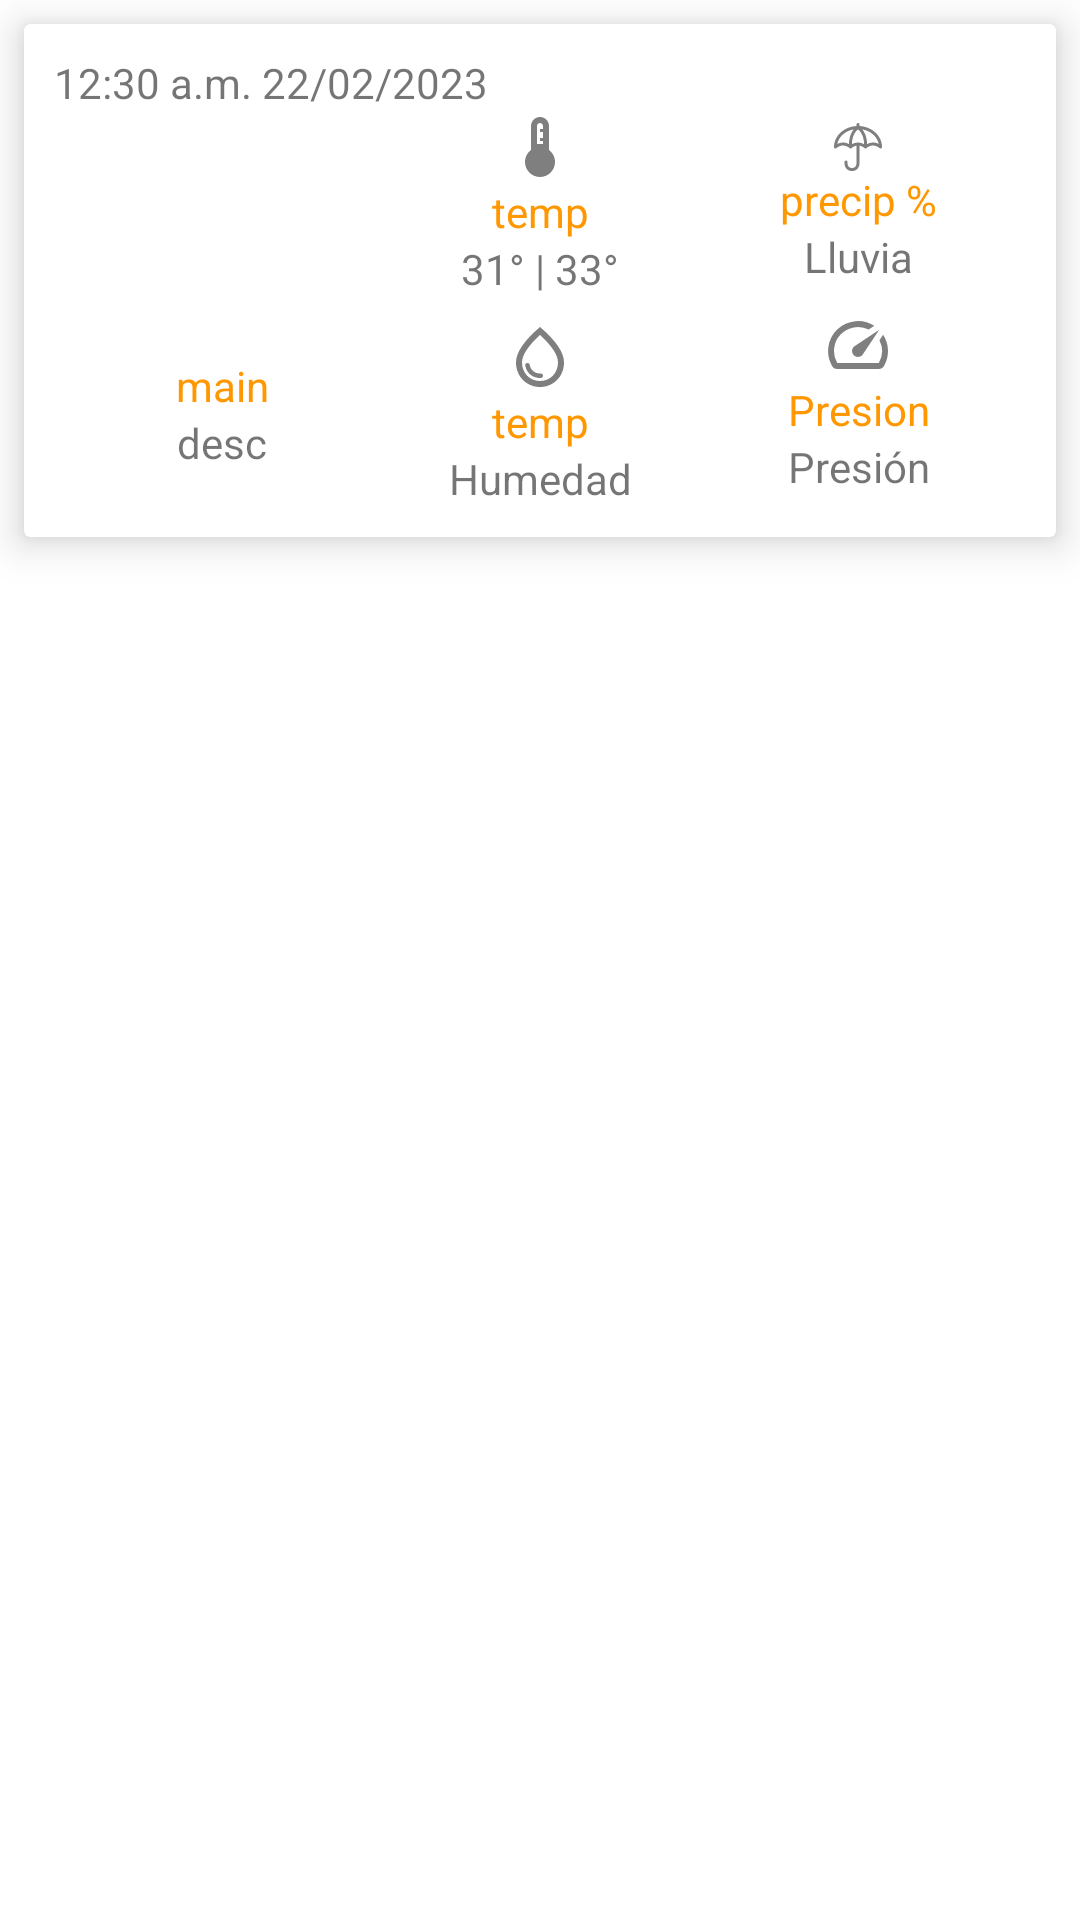

Point at icon controls on the screen. Image size 1080*1920, points as (x=x, y=y).
speed: (x=858, y=345)
thermostat: (x=540, y=147)
umbrella: (x=858, y=147)
water drop: (x=540, y=357)
